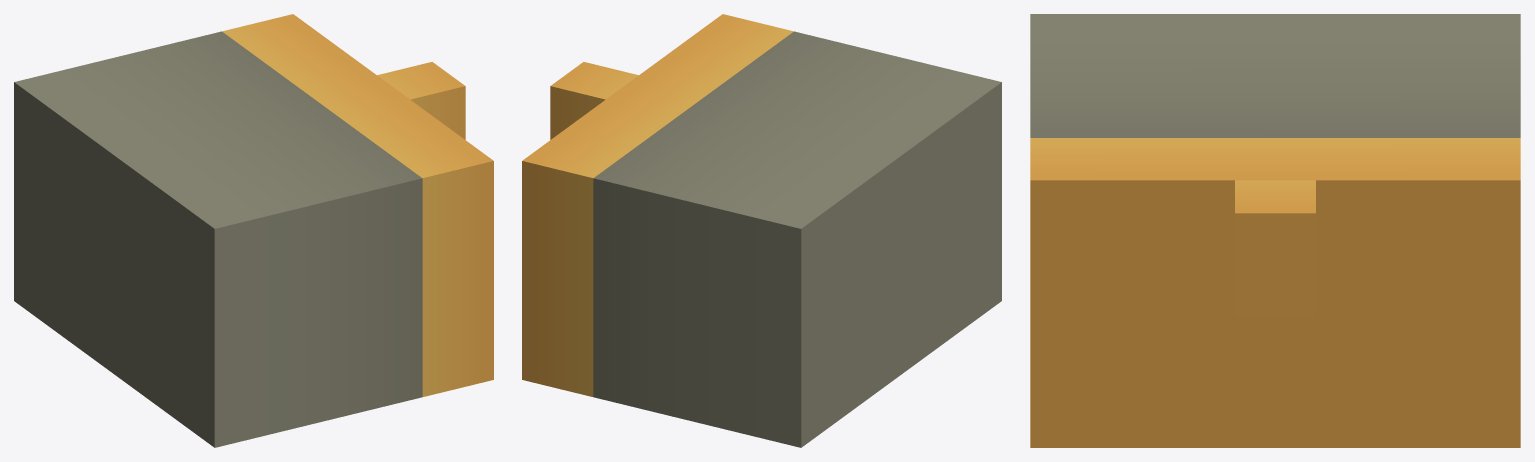
File: SK_Cartridge_Yellow.fbx
The picture shows the model from 3 angles, left to right: view 1: azimuth 30°, elevation 25°; view 2: azimuth 150°, elevation 25°; view 3: azimuth 270°, elevation 25°; orthographic projection. The views are drawn at different scales.
Parts seen in each view (by area): view 1: yellowCartridge; view 2: yellowCartridge; view 3: yellowCartridge.
Part boxes in pixels (x1,y1,x2,y2): yellowCartridge: [14, 14, 493, 447]; yellowCartridge: [522, 14, 1001, 447]; yellowCartridge: [1030, 14, 1520, 447].
Size of the model in its own units: 9.38 by 5.87 by 9.74.
